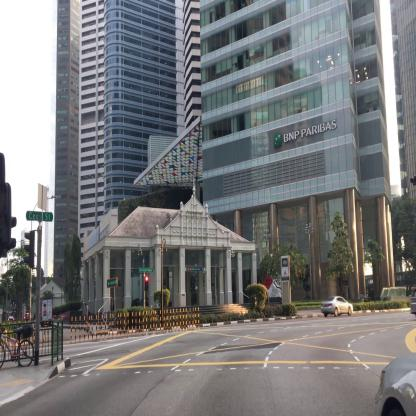red_traffic_light: (145, 275, 148, 290)
